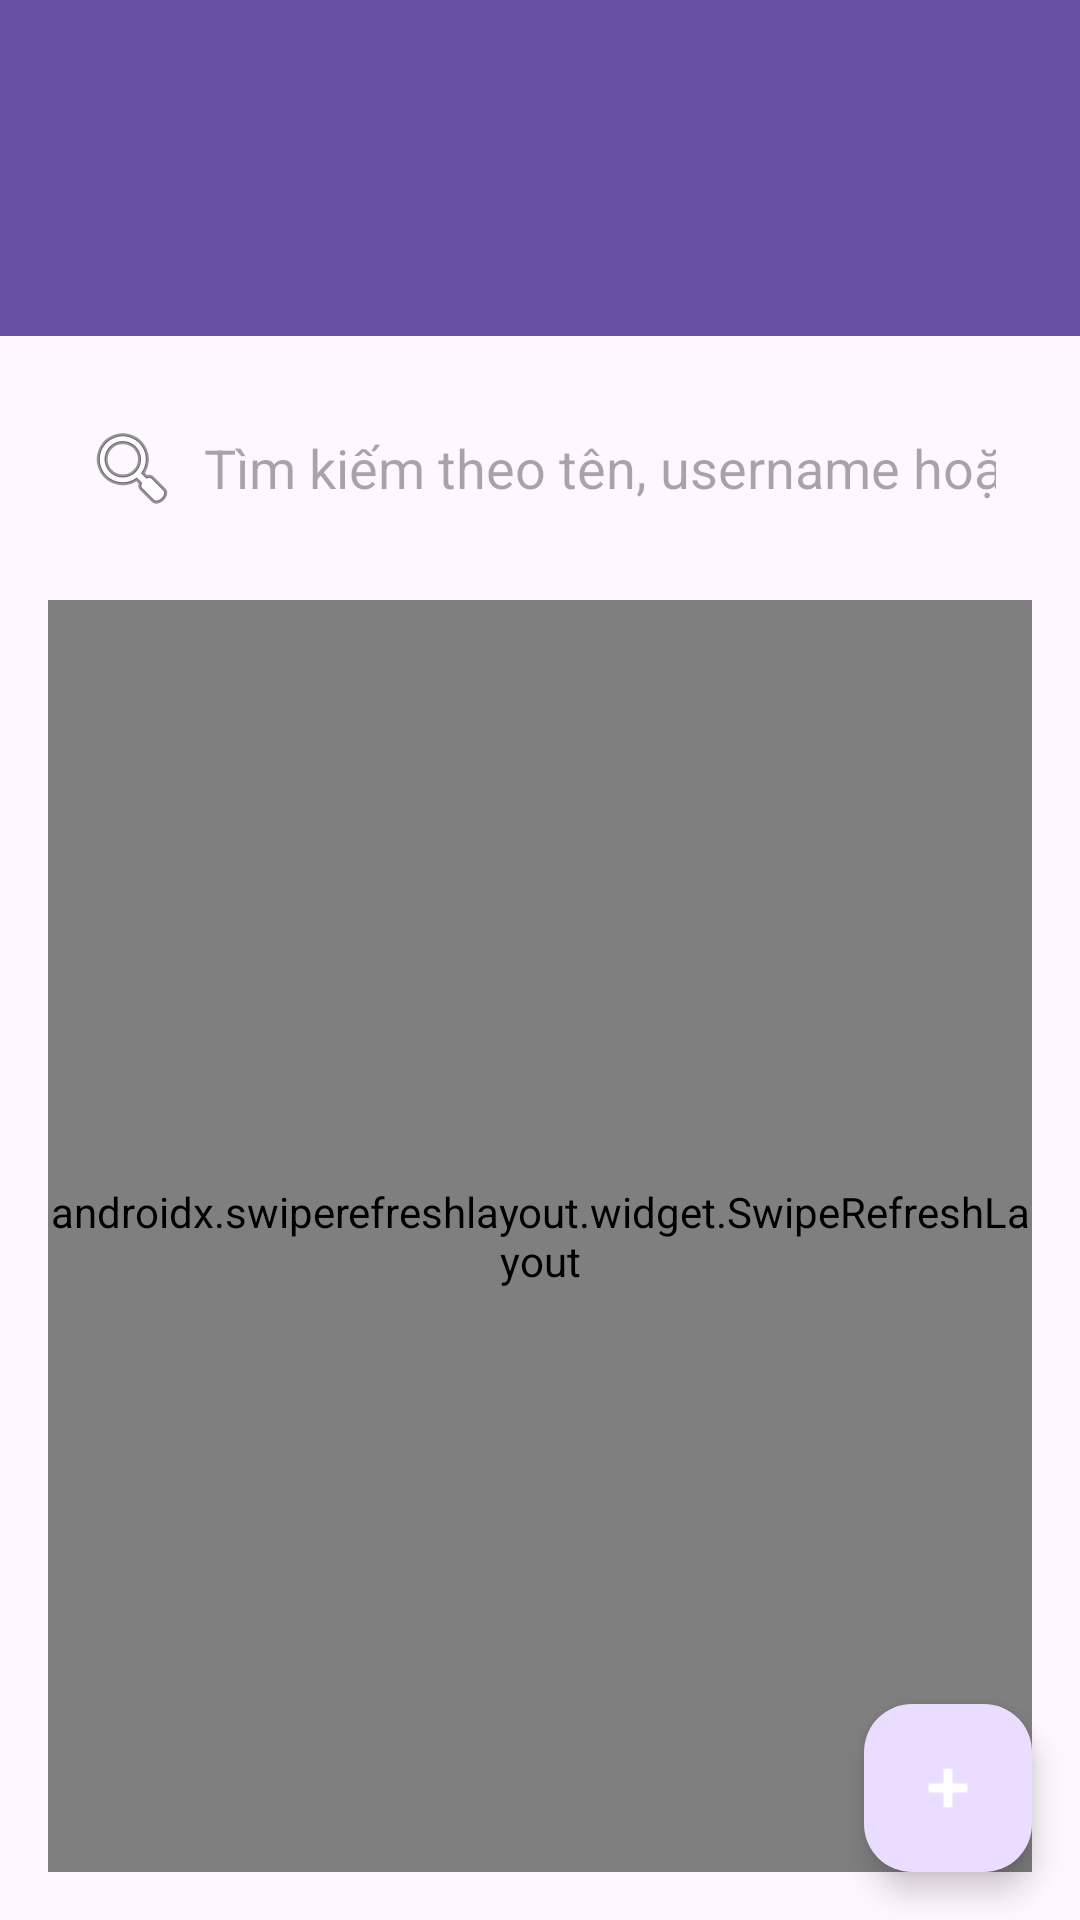

Screen size 1080w x 1920h. Icon name, then its center in pixels as (x,y):
Thêm người dùng mới: (948,1788)
